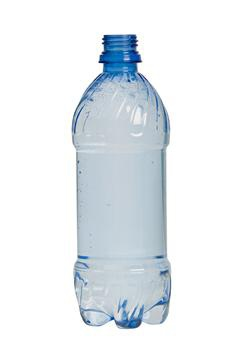emptybottle: (72, 34, 172, 328)
